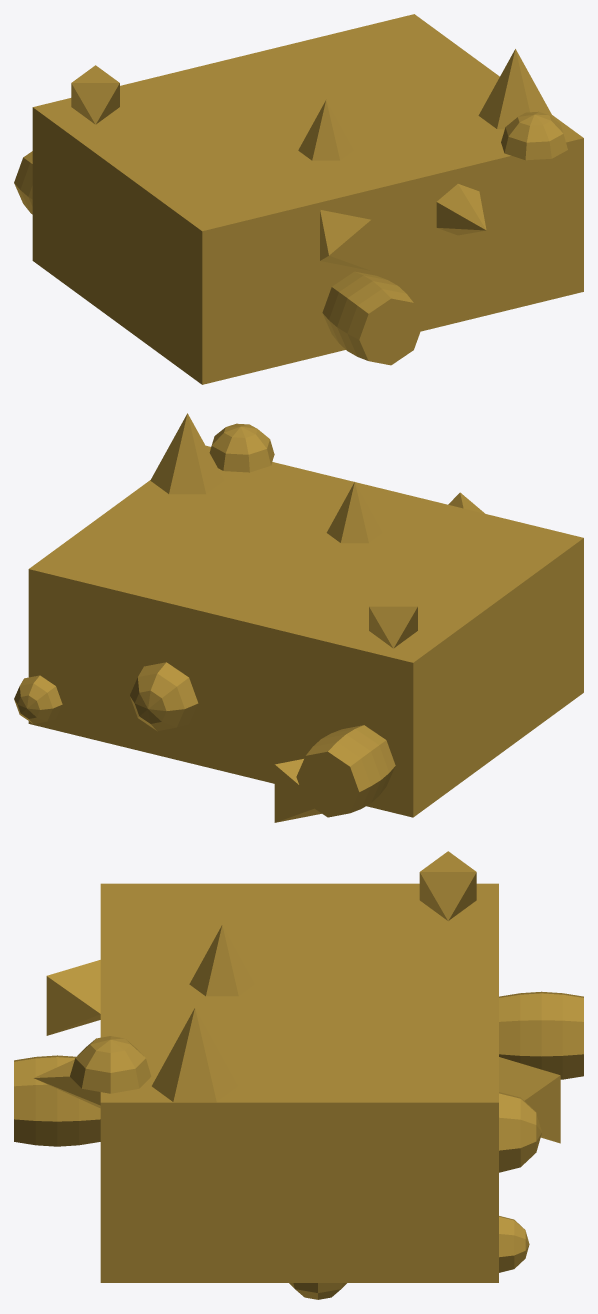
3 renders of one model, top to bottom at view 1: azimuth 30°, elevation 25°; view 2: azimuth 150°, elevation 25°; view 3: azimuth 270°, elevation 25°, orthographic. The views are drawn at different scales.
Visible parts, largest first — view 1: object06_low; view 2: object06_low; view 3: object06_low.
Part boxes in pixels (box(x1,y1,x2,y2)): object06_low: box(14, 14, 583, 384); object06_low: box(14, 413, 583, 822); object06_low: box(14, 851, 583, 1299).
Size of the model in its own units: 2.68 by 1.63 by 2.86.
